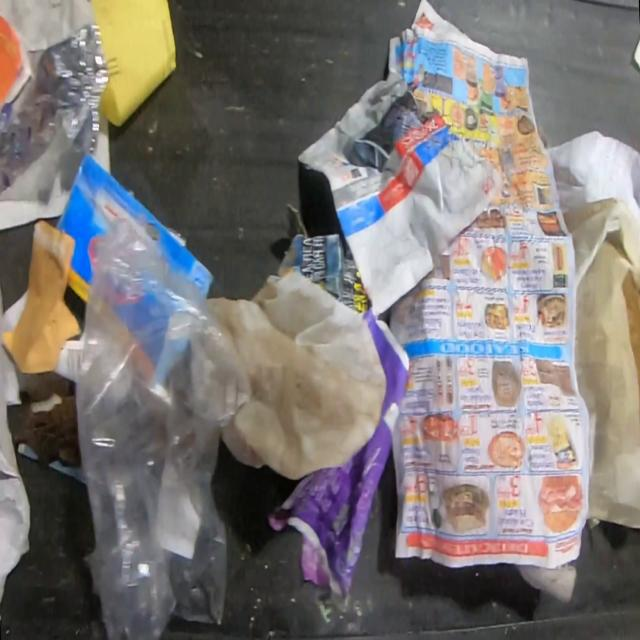cardboard: (622, 269, 639, 387)
soft_plastic: (74, 215, 248, 639), (205, 269, 388, 482), (0, 20, 108, 197)
